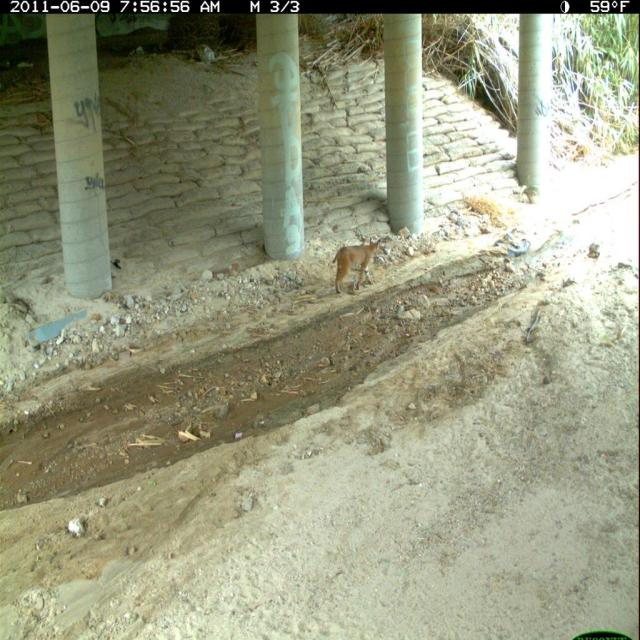bobcat: (330, 233, 384, 300)
